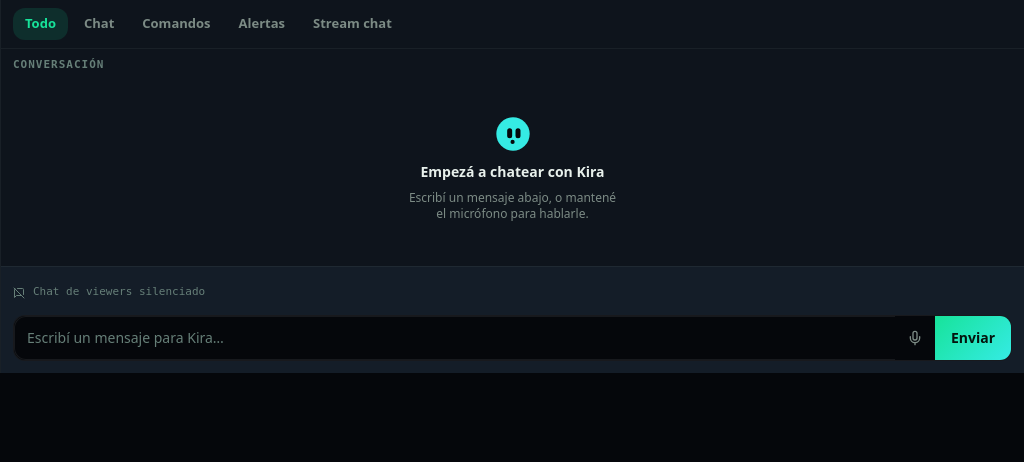
Test: ConversationPanel — composer mic (pure PTT relocation, §3b(vi)) › surfaces a 503 stt_unreachable honestly in the composer and never fakes listening
The image size is (1024, 462).
Press the mouse on the button named "Mantené para hablar con Kira" at (915, 338), box [895,316,935,360]
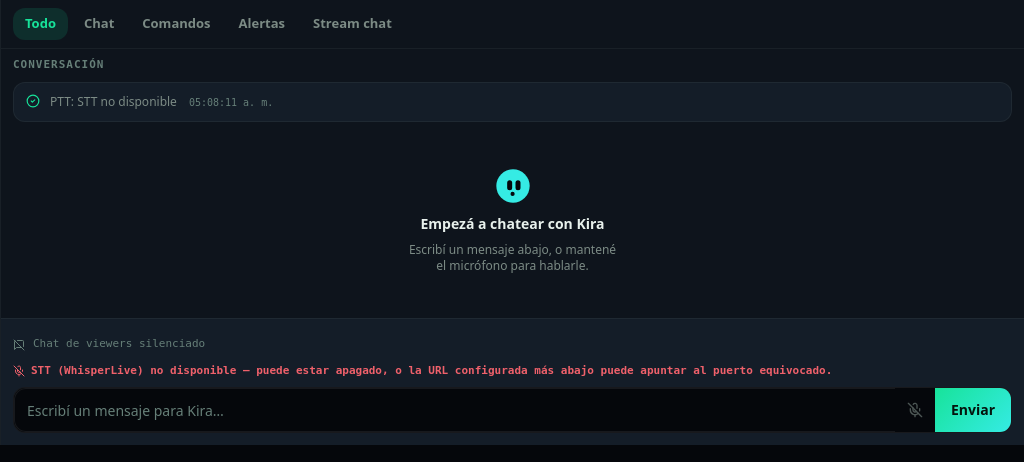
Expected: the text "STT (WhisperLive) no disponible" is shown, [31,364,832,376]
